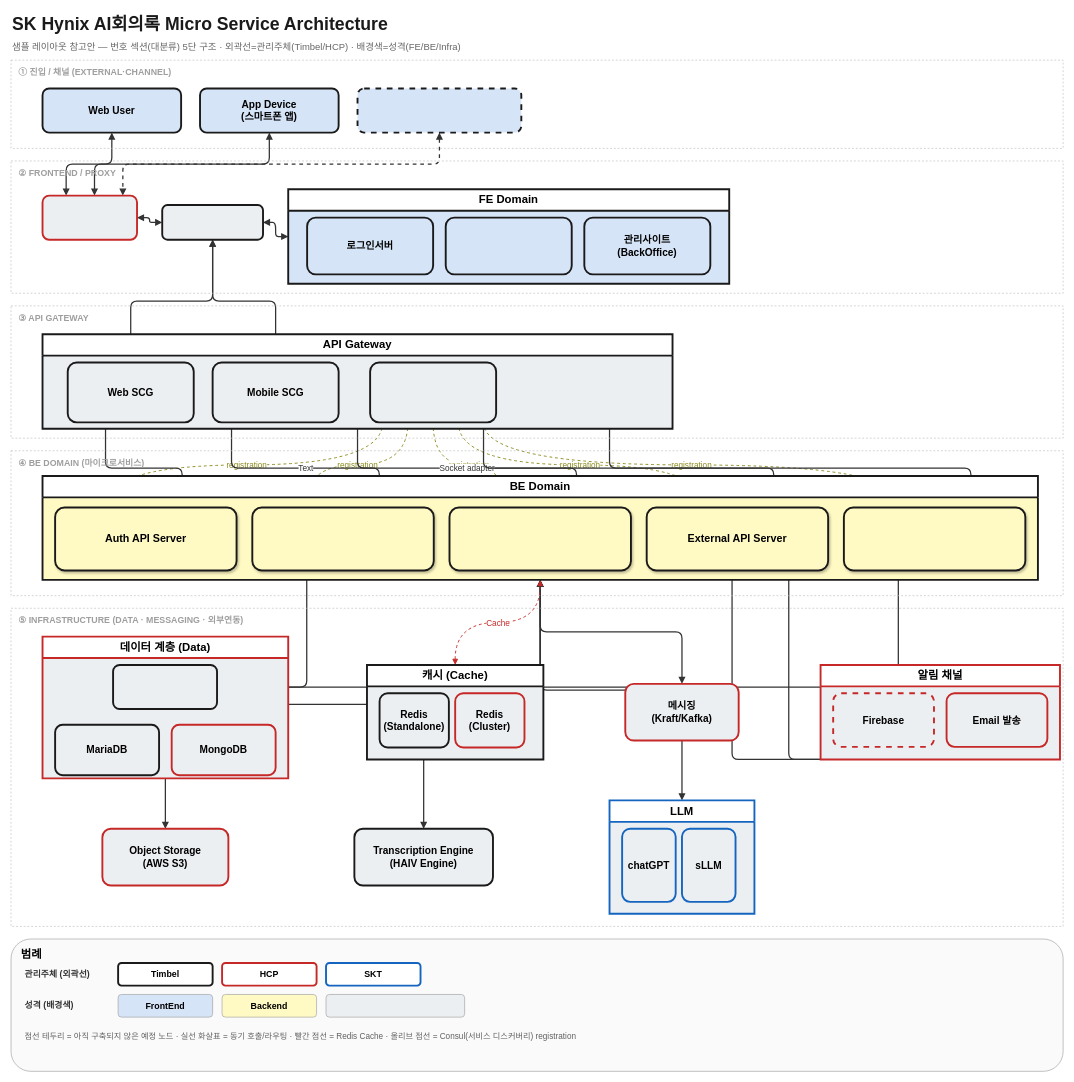
Some shapes in this 1074 by 1082 pixel diagram are drawn without their labels. The shapes that lost their labels are listed below. From the top down, each one's centre as x and y in pixels, then its label:
At (439,110): "OS (Windows Application) (예정)".
At (89,217): "L4 스위치 (HA Proxy)".
At (212,222): "Nginx".
At (508,245): "유저사이트 (회의록)".
At (433,392): "Consul".
At (343,540): "Main API Server".
At (540,540): "Notify API Server".
At (935,540): "Admin API Server".
At (165,687): "Prisma (ORM)".
At (395,1005): "Infra (Proxy/HA·DB·Message·STT·외부연동)".
